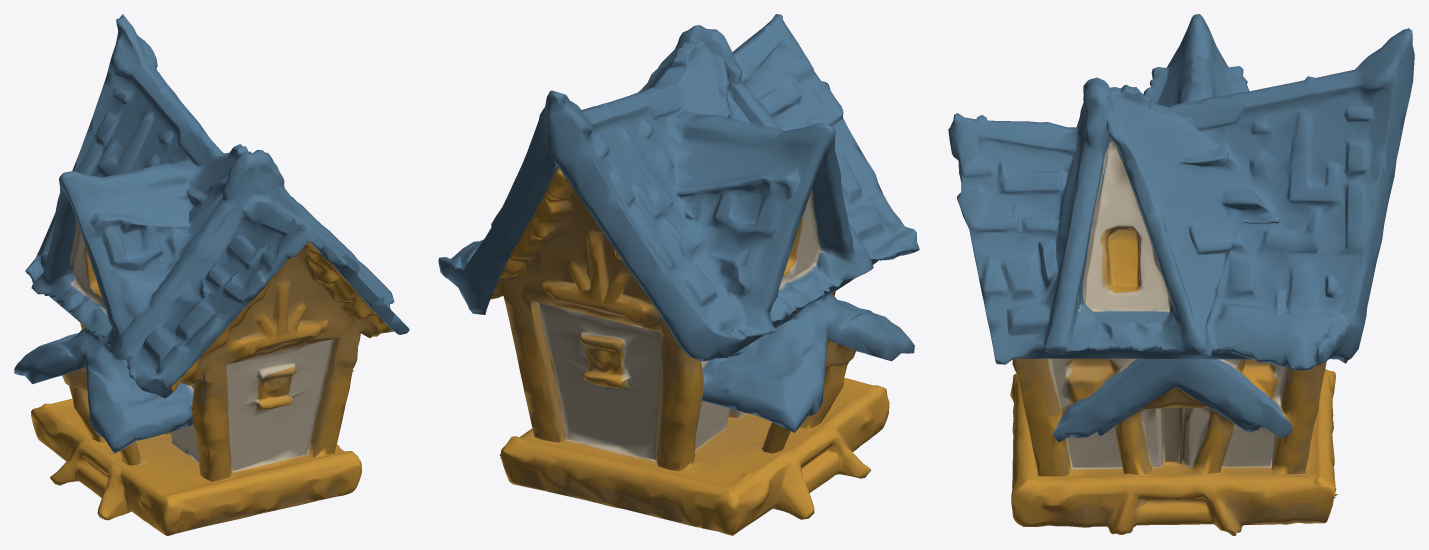
Rendered from resHouse_02.fbx.
3 views of the same model, side by side, from view 1: azimuth 30°, elevation 25°; view 2: azimuth 150°, elevation 25°; view 3: azimuth 270°, elevation 25° (orthographic). The views are drawn at different scales.
Parts seen in each view (by area): view 1: tripo_node_359ceddc-7562-4608-8b78-43c7168c10f5; view 2: tripo_node_359ceddc-7562-4608-8b78-43c7168c10f5; view 3: tripo_node_359ceddc-7562-4608-8b78-43c7168c10f5.
Boxes of the visible parts, x1=… form: tripo_node_359ceddc-7562-4608-8b78-43c7168c10f5: x1=14, y1=14, x2=409, y2=535; tripo_node_359ceddc-7562-4608-8b78-43c7168c10f5: x1=438, y1=14, x2=919, y2=535; tripo_node_359ceddc-7562-4608-8b78-43c7168c10f5: x1=948, y1=14, x2=1414, y2=535.
Bounding box in the file's own units: 78.96 × 98.42 × 89.9.
Materials: 1 (1 with a texture image).
